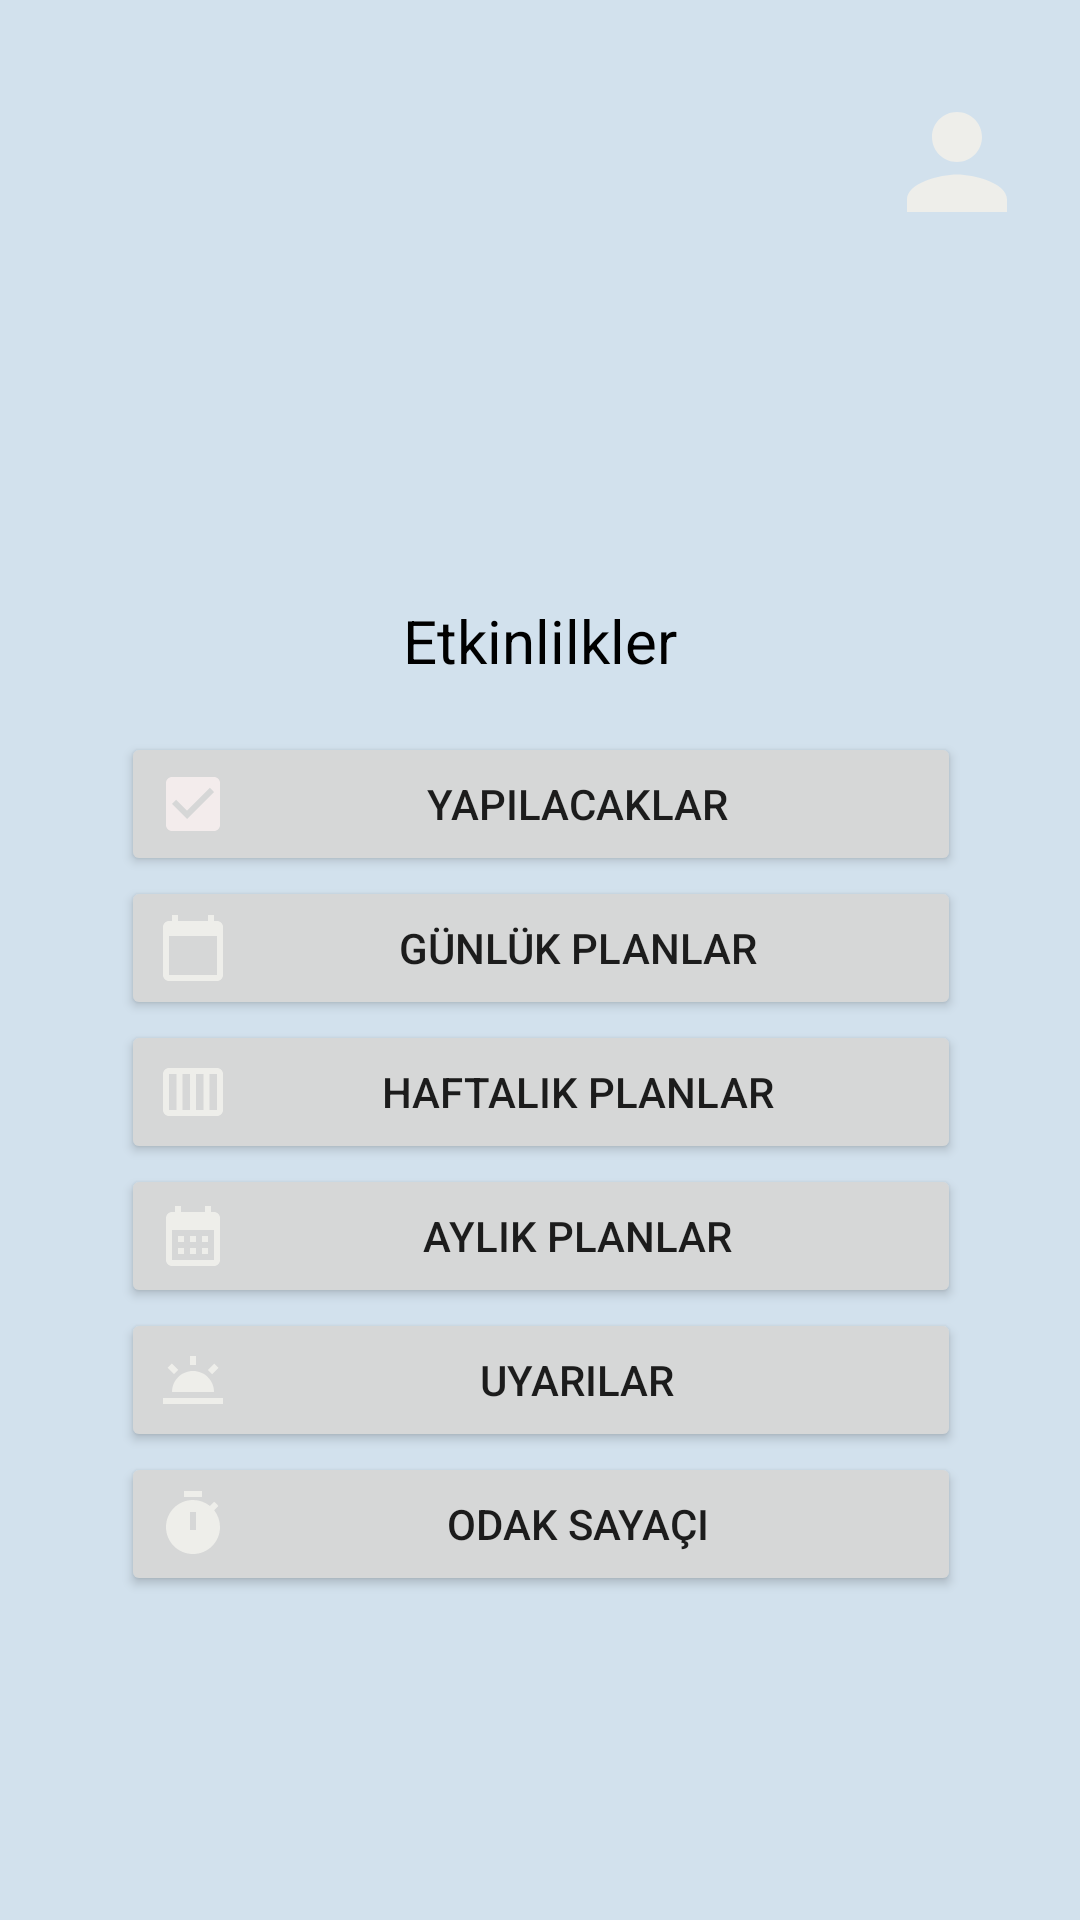

Named icons in this screenshot (1080 x 1920) and their bounding boxes, (x1, y1, x2, y2):
person: (907, 112, 1007, 212)
